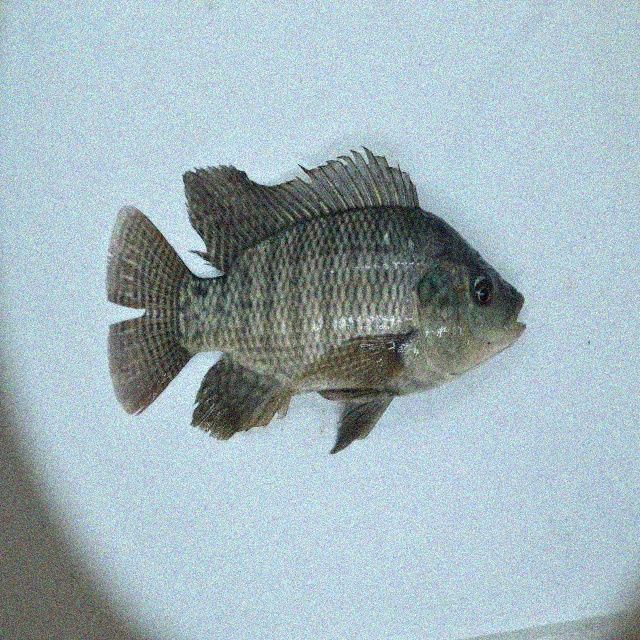Healthy Fish: (103, 140, 533, 457)
